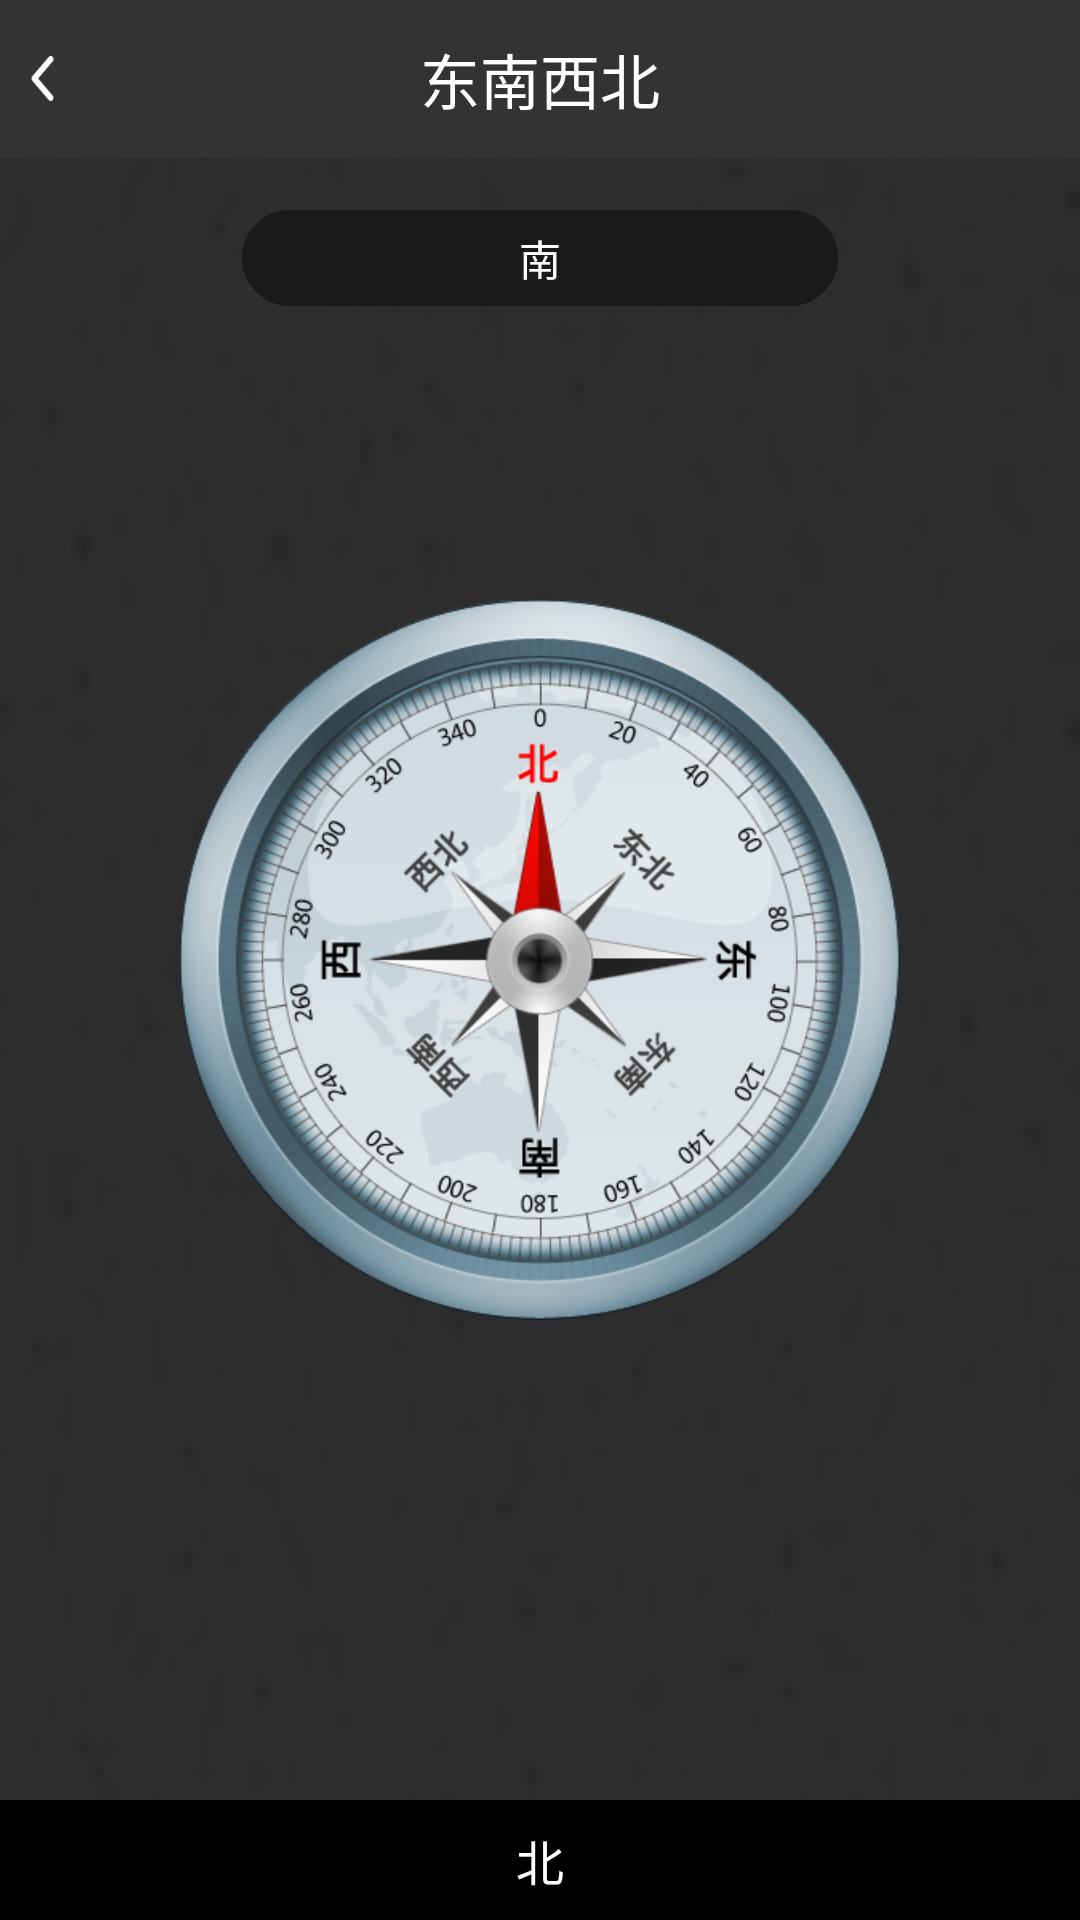

Where icons sit on this 1080 × 1920 app screen, as [x1=x1, y1=y1, x2=x2, y2=y2]:
return iv: [x1=31, y1=56, x2=54, y2=101]
